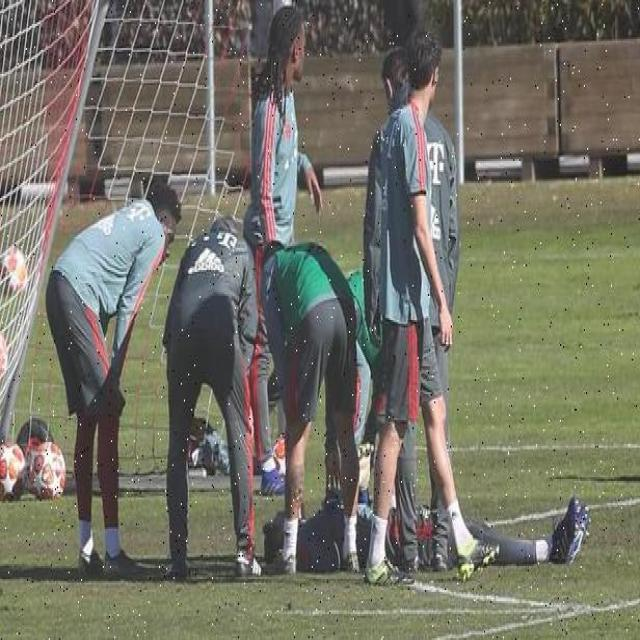fall: (262, 494, 590, 568)
